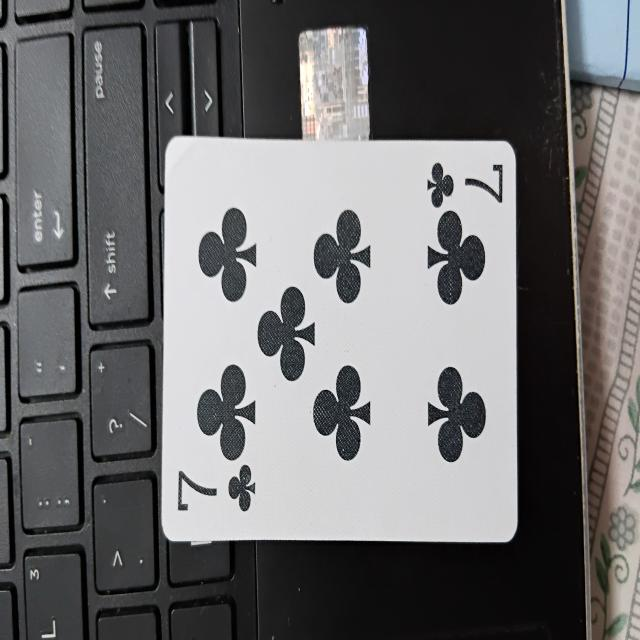7C: (162, 136, 518, 546)
